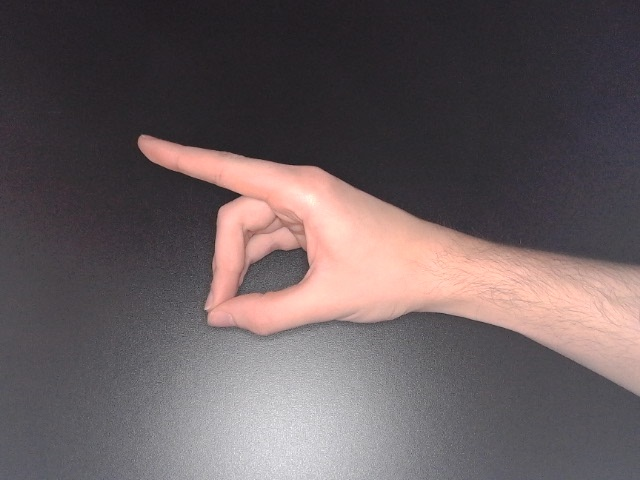p: (133, 129, 497, 344)
